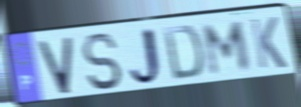D: (161, 24, 205, 82)
J: (127, 26, 167, 89)
K: (248, 15, 289, 71)
M: (202, 19, 253, 78)
S: (79, 32, 124, 93)
V: (36, 35, 75, 97)
